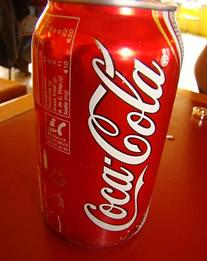metal: (32, 0, 183, 247)
